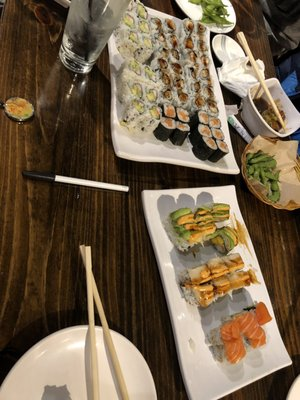sushi: (240, 134, 300, 211)
